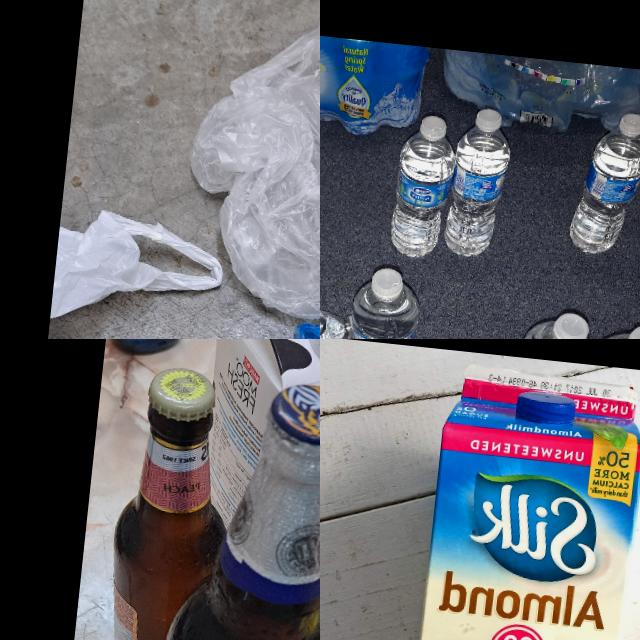caixinha: (395, 362, 640, 640), (195, 339, 320, 571)
garrafa de vidro: (143, 369, 320, 640), (93, 360, 243, 640)
garrafa plástica: (563, 124, 640, 261), (443, 125, 512, 262), (386, 130, 456, 262), (340, 275, 421, 339)
sacola plástica: (176, 9, 320, 339), (47, 200, 225, 339)
tampa plástica: (514, 388, 576, 426), (366, 263, 406, 308), (547, 307, 592, 339), (416, 112, 450, 146), (471, 105, 501, 136), (616, 109, 640, 141)
